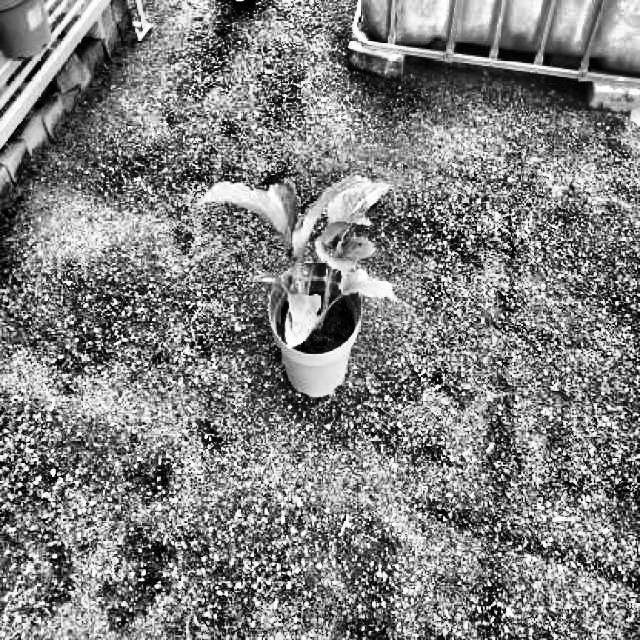plants: (198, 174, 400, 348)
